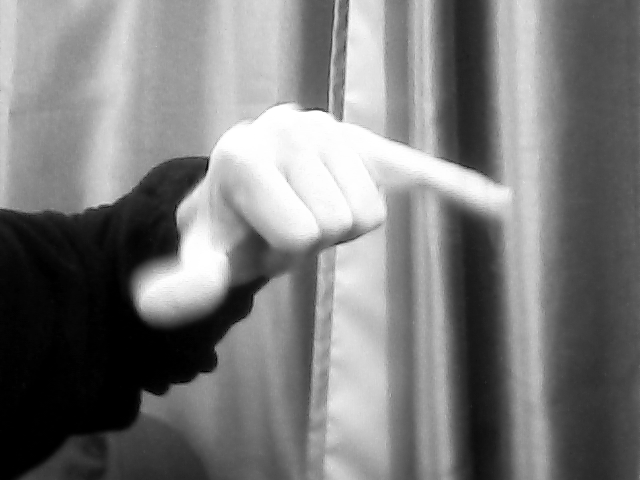aloha: (130, 93, 515, 334)
